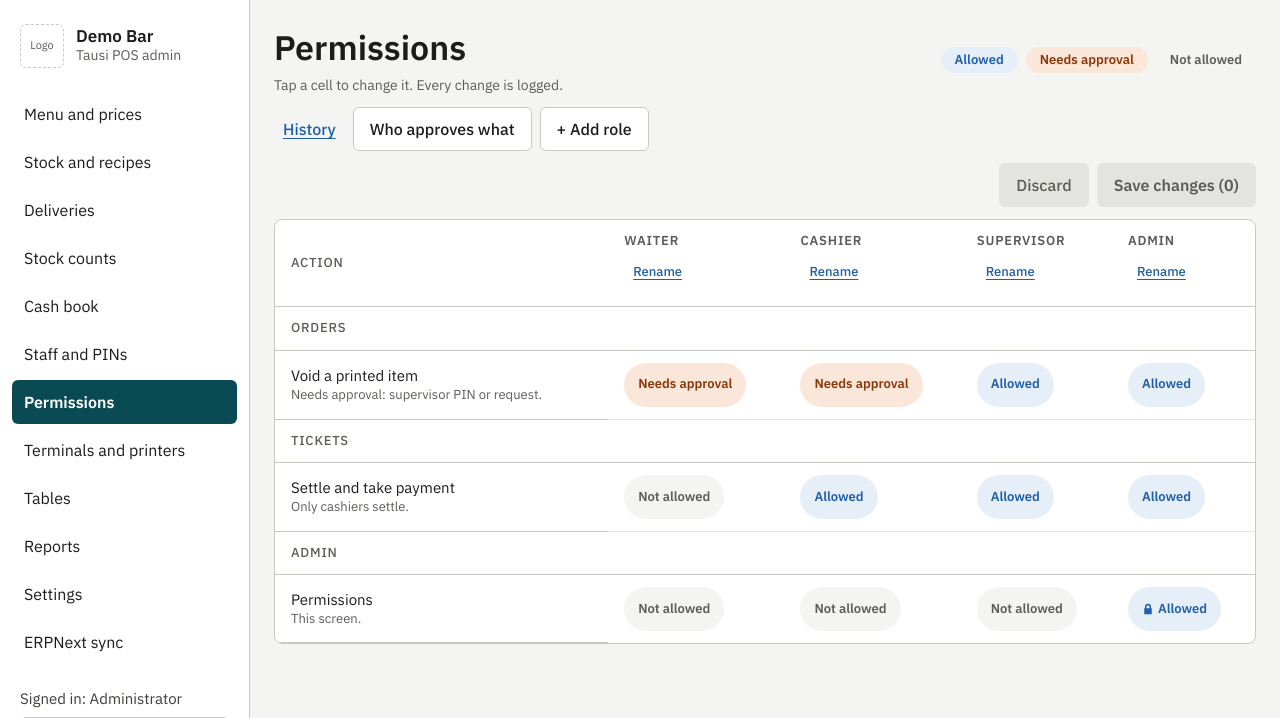
Scenario: Permissions › warns when nobody could approve a key and does not save
The image size is (1280, 718).
Expected: the table named "Permissions" is shown, [275, 220, 1255, 644]
Click the 1st button "Allowed" at (1015, 385), box [977, 363, 1054, 407]
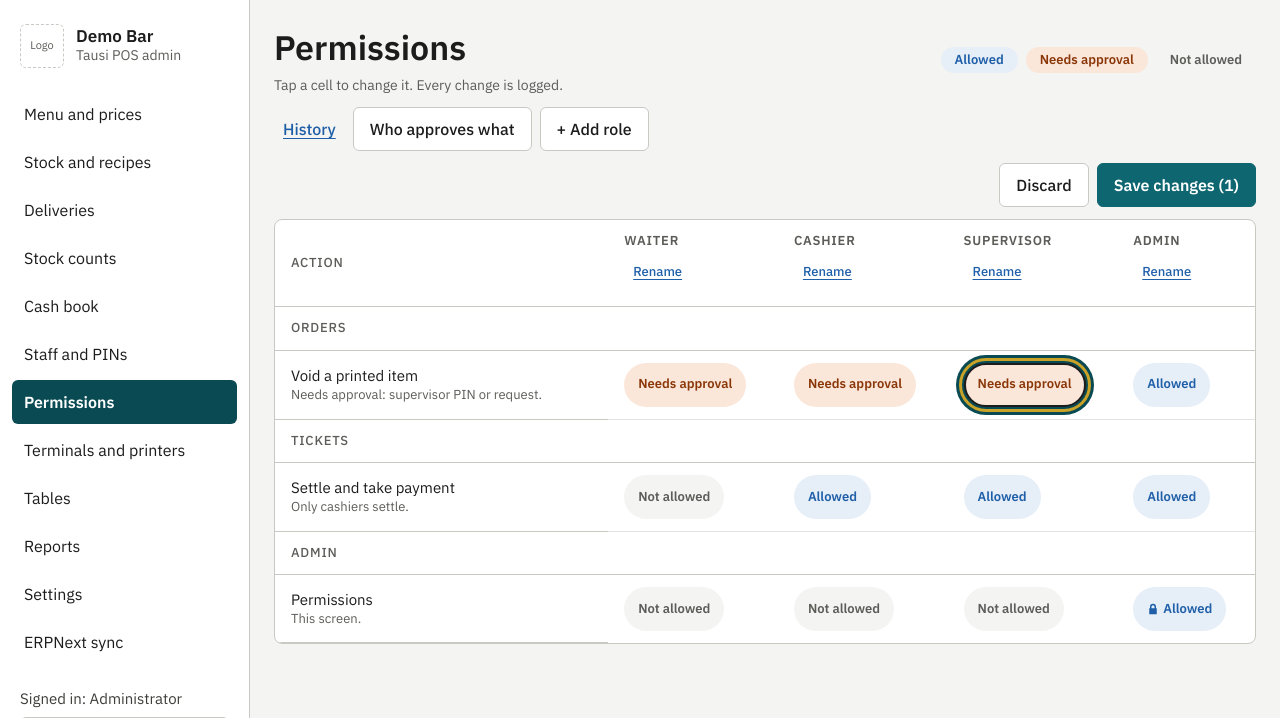
Click the button "Allowed" in the row of "Void a printed item" at (1172, 385), box [1133, 363, 1210, 407]
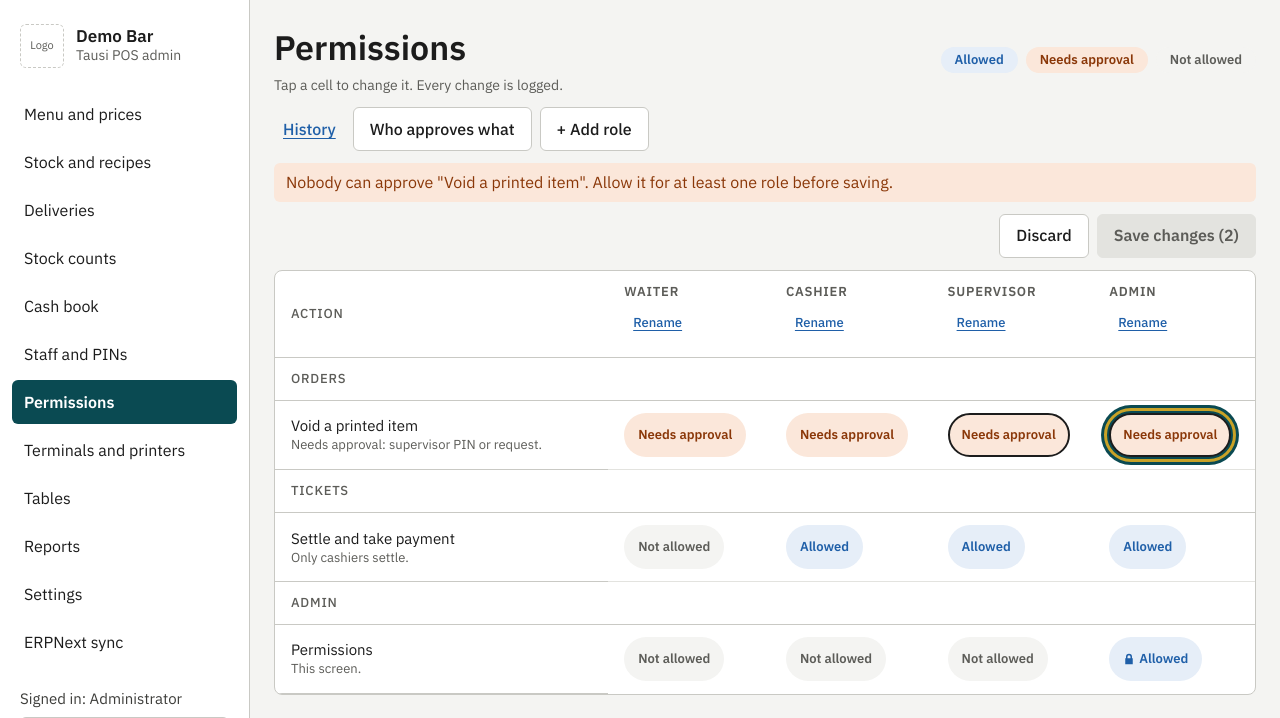
Now the text "Nobody can approve \"Void a printed item\". Allow it for at least one role before saving." is shown, box [286, 172, 893, 192]
Now the button "Save changes (2)" is disabled, box [1097, 214, 1256, 258]
Click the button "Who approves what" at (442, 129), box [353, 107, 532, 151]
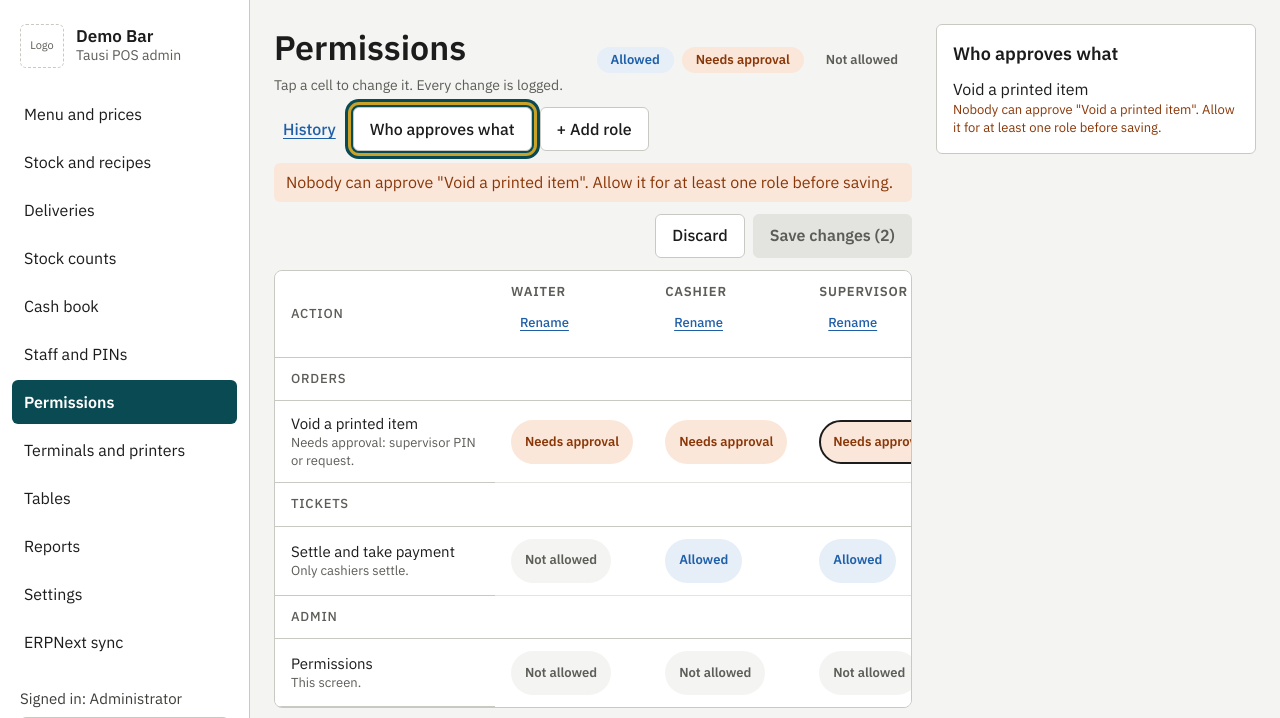
Now the text "Nobody can approve" is shown, box [953, 101, 1235, 136]
